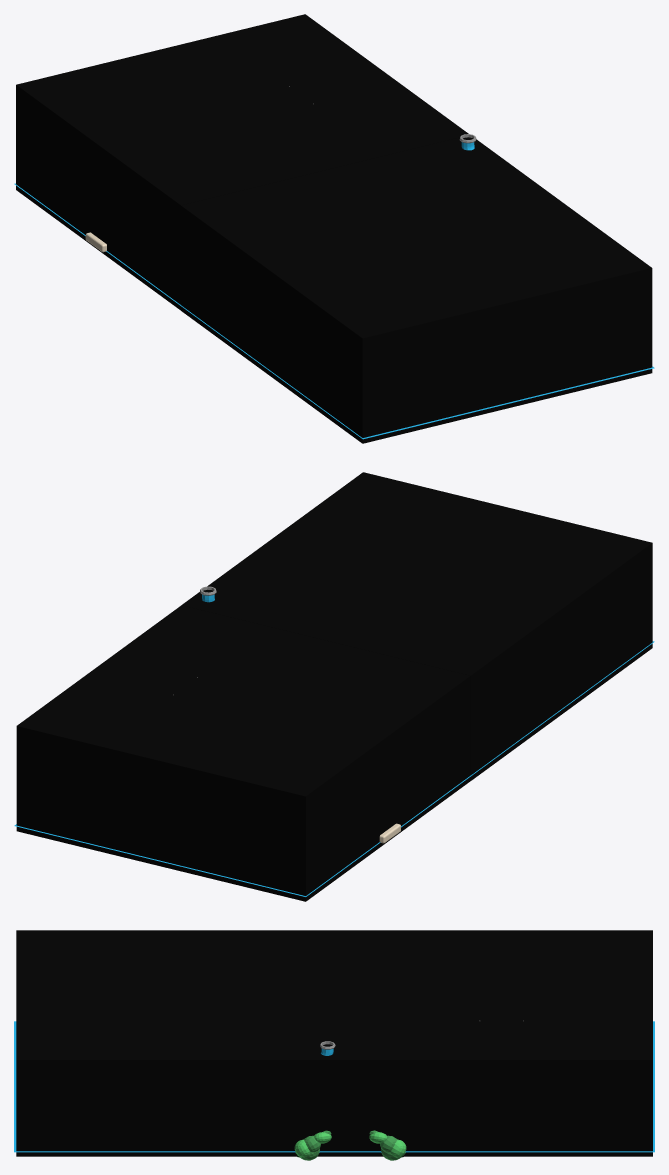
The picture shows the model from 3 angles, top to bottom: view 1: azimuth 30°, elevation 25°; view 2: azimuth 150°, elevation 25°; view 3: azimuth 270°, elevation 25°; orthographic projection. The views are drawn at different scales.
Parts seen in each view (by area): view 1: room2, room1, water; view 2: room1, room2, water; view 3: room2, room1, water.
Boxes of the visible parts, x1,y1,x2,y2 form: room2: (181, 137, 652, 443); room1: (16, 14, 468, 310); water: (14, 183, 654, 439); room1: (16, 605, 470, 901); room2: (181, 472, 652, 780); water: (14, 641, 654, 896); room2: (16, 930, 350, 1156); room1: (350, 930, 652, 1156); water: (14, 1021, 654, 1152).
Size of the model in its own units: 10.18 by 4.06 by 20.27.
